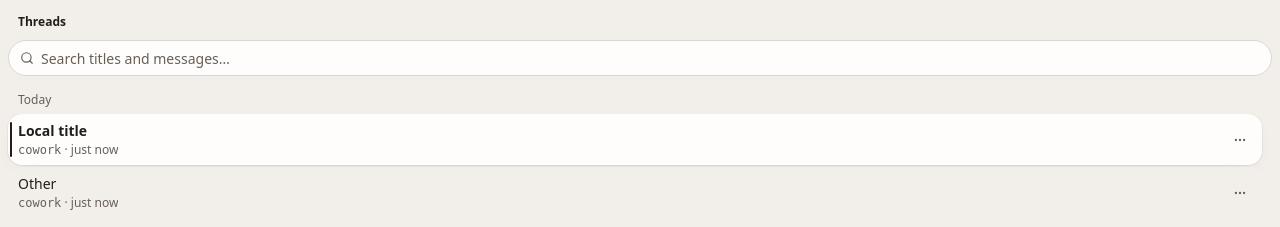
Test: search, past its first page › keeps how long ago beside a matched message
This screenshot has width=1280, height=227.
Type "readme" into the search field named "Search threads" at [640, 58], box [8, 40, 1272, 76]
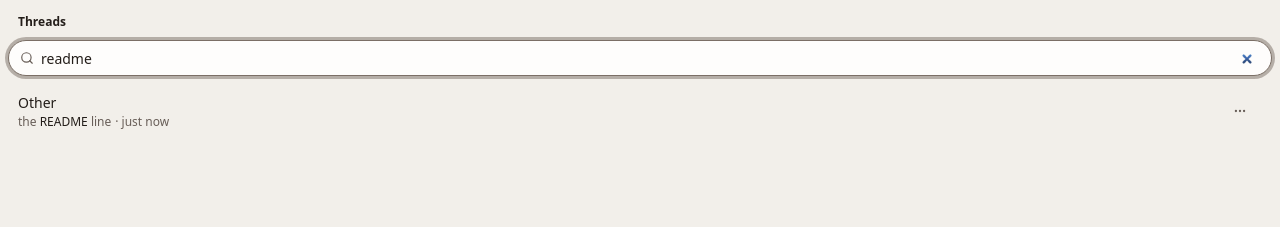
Now the button "Other the README line · just now" is shown, box [18, 92, 1220, 130]
